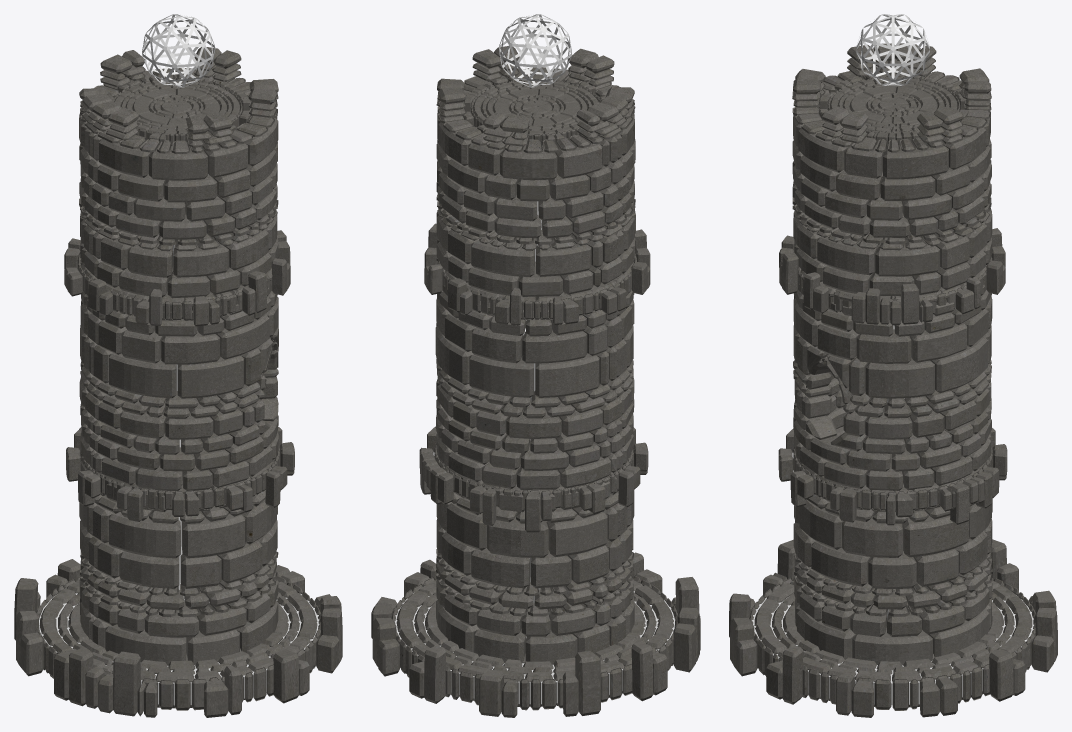
Rendered from tower 2.fbx.
3 renders of one model, left to right at view 1: azimuth 30°, elevation 25°; view 2: azimuth 150°, elevation 25°; view 3: azimuth 270°, elevation 25°, orthographic.
Parts seen in each view (by area): view 1: Wall.014, Wall.016, Wall.015, Wall.011, Wall.003, Wall.004, Wall.001, Icosphere.001, Circle.003; view 2: Wall.014, Wall.016, Wall.015, Wall.011, Wall.004, Wall.003, Wall.001, Icosphere.001, Circle.003; view 3: Wall.014, Wall.016, Wall.015, Wall.011, Wall.004, Wall.003, Wall.001, Icosphere.001, Circle.003.
Part boxes in pixels (<box>): Wall.014: <box>79,47,278,307</box>; Wall.016: <box>79,288,278,491</box>; Wall.015: <box>79,456,278,665</box>; Wall.011: <box>14,559,342,717</box>; Wall.003: <box>64,230,290,326</box>; Wall.004: <box>66,426,294,521</box>; Wall.001: <box>108,75,251,146</box>; Icosphere.001: <box>142,14,215,87</box>; Circle.003: <box>39,588,319,705</box>; Wall.014: <box>436,46,635,306</box>; Wall.016: <box>435,285,634,489</box>; Wall.015: <box>436,453,634,664</box>; Wall.011: <box>371,552,700,717</box>; Wall.004: <box>419,426,648,532</box>; Wall.003: <box>424,223,650,325</box>; Wall.001: <box>462,75,605,146</box>; Icosphere.001: <box>499,14,571,87</box>; Circle.003: <box>394,591,675,704</box>; Wall.014: <box>792,43,992,304</box>; Wall.016: <box>793,284,992,490</box>; Wall.015: <box>793,456,992,665</box>; Wall.011: <box>729,539,1057,717</box>; Wall.004: <box>778,426,1007,525</box>; Wall.003: <box>779,228,1005,325</box>; Wall.001: <box>819,73,968,153</box>; Icosphere.001: <box>856,14,929,85</box>; Circle.003: <box>752,595,1033,705</box>.
Size of the model in its own units: 2430 by 5171 by 2429.
